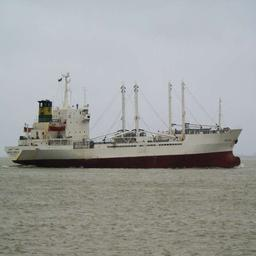Ship: (2, 70, 245, 172)
